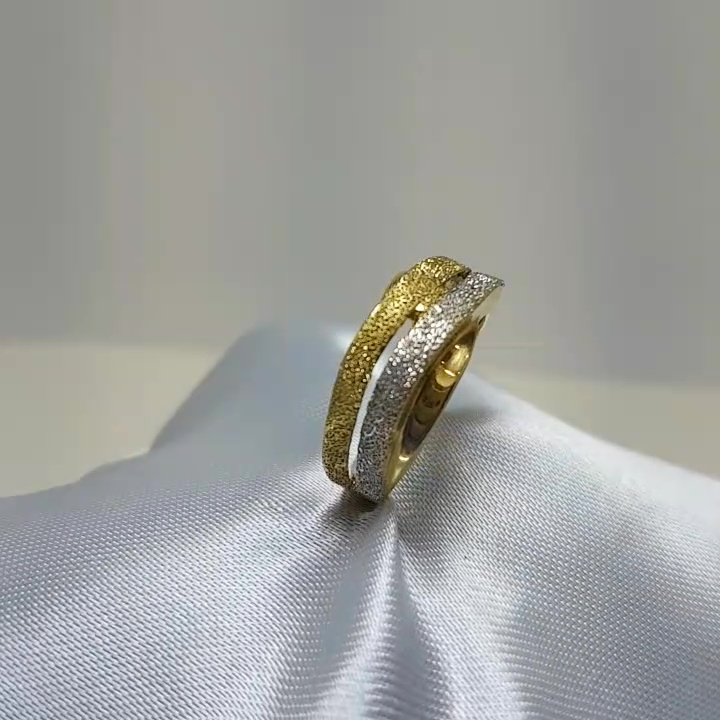Ring 5: (292, 255, 529, 510)
